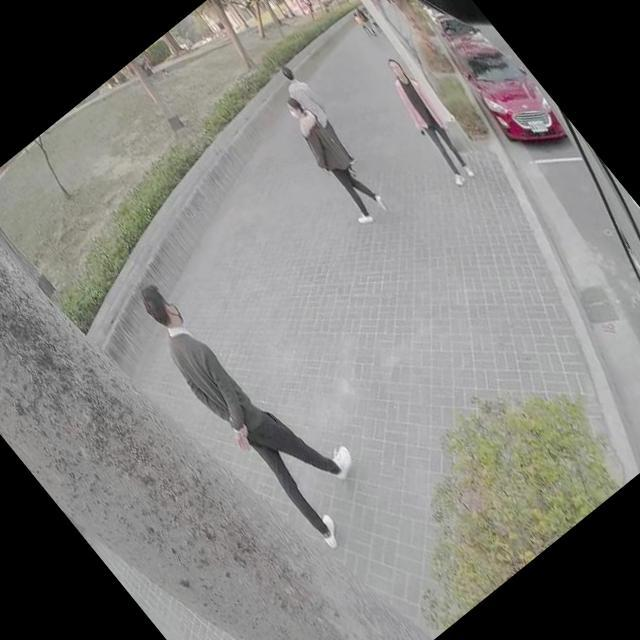person: (121, 260, 374, 551), (268, 90, 391, 230), (368, 51, 488, 188), (271, 59, 365, 168)
